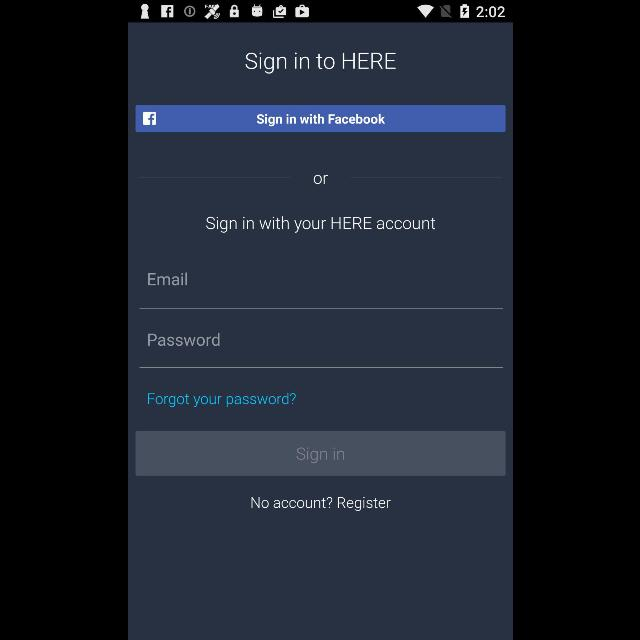input: (139, 272, 503, 310), (139, 333, 503, 369)
text: (205, 216, 435, 234), (244, 53, 396, 75), (147, 392, 296, 408), (250, 496, 390, 512), (147, 333, 219, 347), (148, 272, 186, 286), (313, 175, 327, 185)
textbutton: (135, 430, 505, 476), (135, 106, 505, 132)
uppertaskbar: (128, 1, 512, 23)
